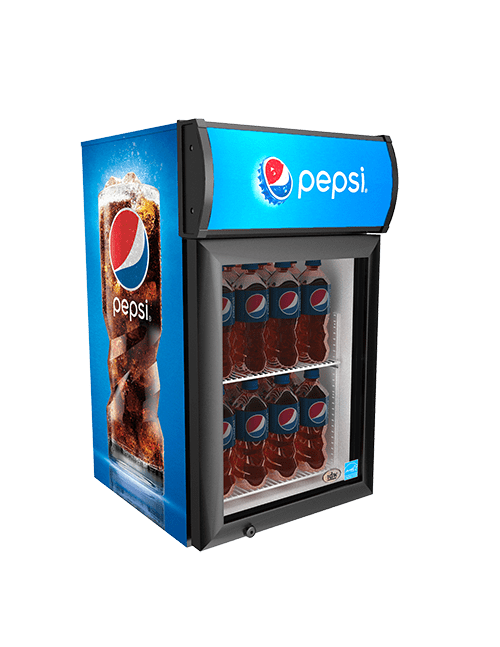pepsi: (107, 207, 149, 288), (260, 155, 290, 197), (244, 291, 267, 317), (243, 409, 266, 434), (276, 287, 298, 313), (276, 404, 298, 428), (309, 286, 330, 311), (276, 290, 298, 313), (309, 397, 325, 425), (220, 294, 233, 315), (220, 418, 230, 442)
